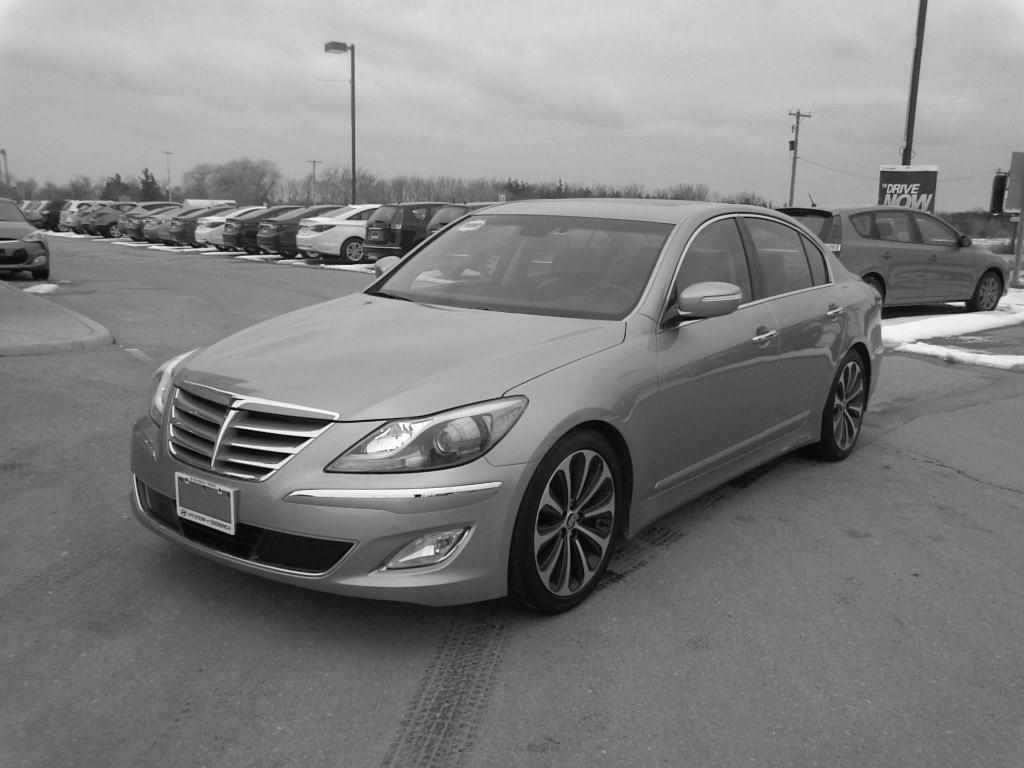car: (133, 197, 884, 602)
